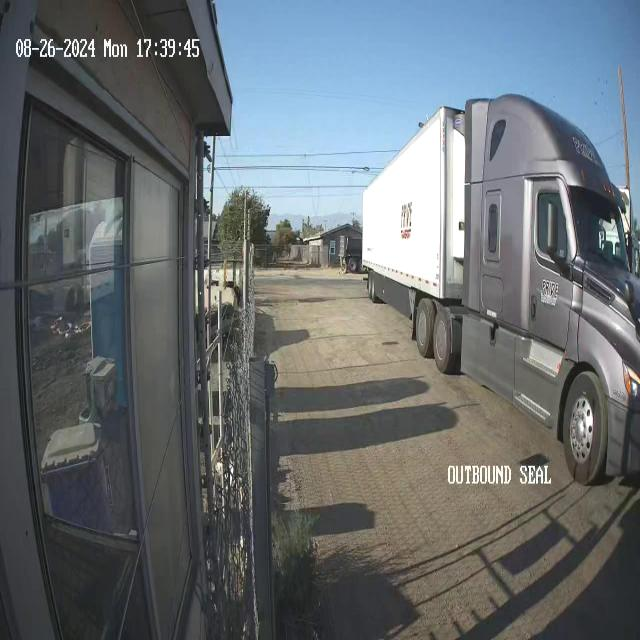CONTAINER: (360, 92, 470, 296)
